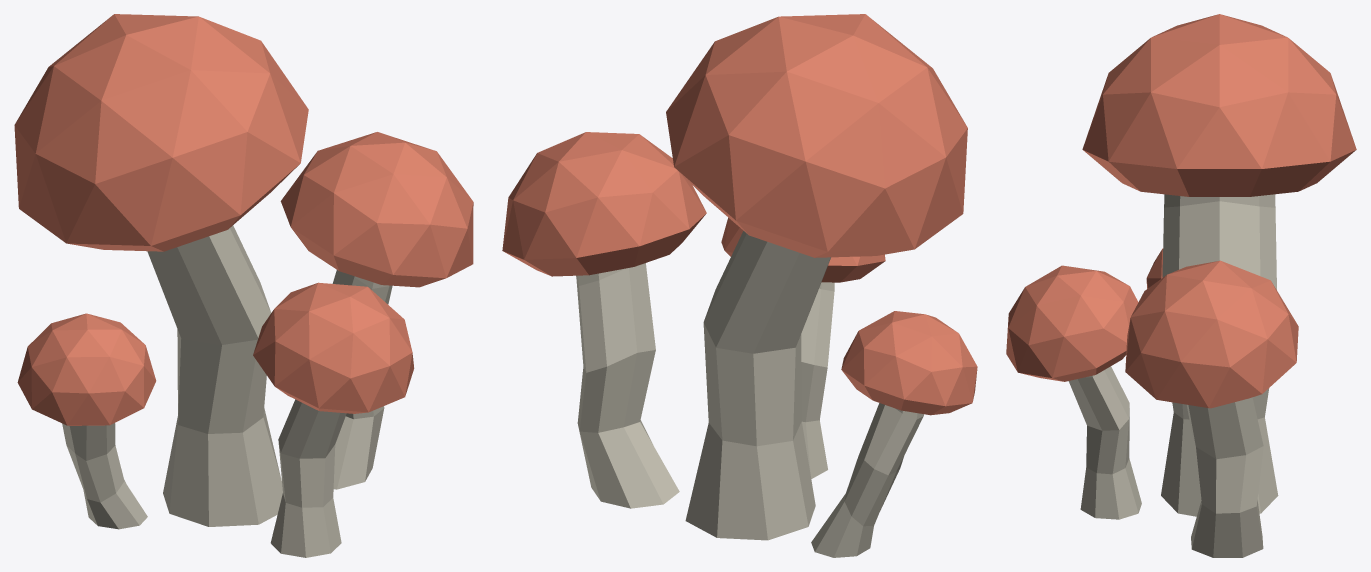
Rendered from Mushroom_02.fbx.
3 views of the same model, side by side, from view 1: azimuth 30°, elevation 25°; view 2: azimuth 150°, elevation 25°; view 3: azimuth 270°, elevation 25° (orthographic). The views are drawn at different scales.
Parts seen in each view (by area): view 1: Icosphere.032, Cylinder.019, Icosphere.034, Icosphere.035, Icosphere.033, Cylinder.022, Cylinder.020, Cylinder.021; view 2: Icosphere.032, Cylinder.019, Icosphere.034, Cylinder.021, Icosphere.033, Cylinder.020, Cylinder.022, Icosphere.035; view 3: Icosphere.032, Icosphere.034, Cylinder.019, Icosphere.035, Cylinder.021, Cylinder.022.
Part boxes in pixels (x1,y1,x2,y2): Icosphere.032: (14,14,308,251); Cylinder.019: (147,225,282,526); Icosphere.034: (280,132,473,287); Icosphere.035: (253,282,414,413); Icosphere.033: (17,313,156,425); Cylinder.022: (270,399,346,557); Cylinder.020: (62,423,147,529); Cylinder.021: (332,270,392,489); Icosphere.032: (666,14,967,257); Cylinder.019: (685,231,830,540); Icosphere.034: (502,132,706,276); Cylinder.021: (576,263,679,508); Icosphere.033: (841,311,977,415); Cylinder.020: (811,403,923,557); Cylinder.022: (801,282,834,478); Icosphere.035: (721,217,885,282); Icosphere.032: (1082,14,1356,196); Icosphere.034: (1125,260,1298,408); Cylinder.019: (1161,194,1278,516); Icosphere.035: (1006,265,1138,381); Cylinder.021: (1187,397,1263,557); Cylinder.022: (1068,366,1141,519).
Bounding box in the file's own units: 28.59 × 30.92 × 22.25.
